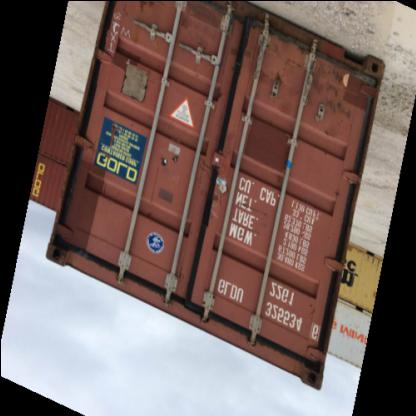Damage: (246, 37, 362, 133), (172, 15, 220, 77), (187, 157, 225, 230)
